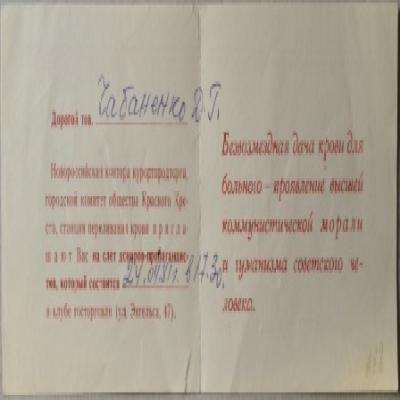document: (0, 0, 395, 392)
